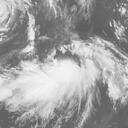cyclone: (9, 61, 82, 113)
